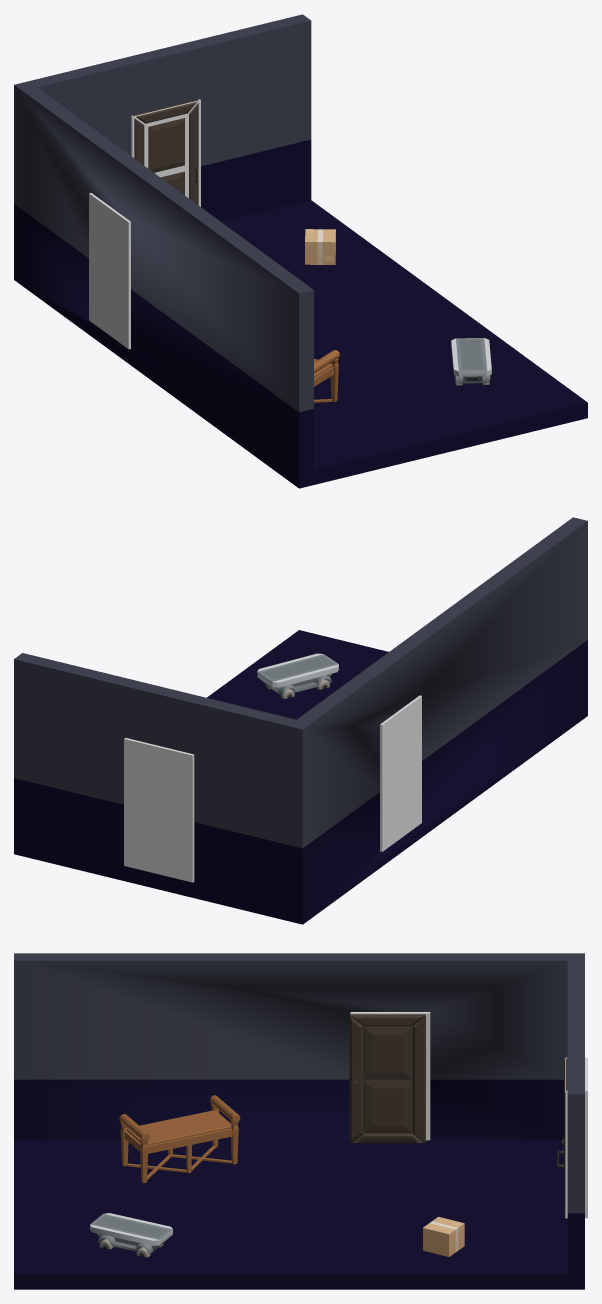
Rendered from room2.fbx.
3 renders of one model, top to bottom at view 1: azimuth 30°, elevation 25°; view 2: azimuth 150°, elevation 25°; view 3: azimuth 270°, elevation 25°, orthographic.
Visible parts, largest first — view 1: Cube.003, Cube.001, Door1, spacetruck_trailer, Cube, box_A, Node.001; view 2: Cube.003, Cube, Cube.001, spacetruck_trailer; view 3: Cube.003, Door1.001, Node.001, spacetruck_trailer, box_A, Cube, Cube.001, Door1.
Boxes of the visible parts, box(x1,y1,x2,y2) form: Cube.003: box(14, 14, 587, 488); Cube.001: box(89, 193, 130, 349); Door1: box(132, 99, 198, 204); spacetruck_trailer: box(451, 338, 491, 383); Cube: box(131, 99, 200, 206); box_A: box(305, 229, 335, 264); Node.001: box(314, 350, 339, 402); Cube.003: box(14, 517, 587, 924); Cube: box(124, 738, 194, 882); Cube.001: box(380, 695, 421, 851); spacetruck_trailer: box(257, 653, 338, 695); Cube.003: box(14, 953, 584, 1289); Door1.001: box(349, 1013, 425, 1143); Node.001: box(119, 1095, 240, 1183); spacetruck_trailer: box(90, 1213, 172, 1254); box_A: box(423, 1216, 464, 1256); Cube: box(565, 1057, 587, 1218); Cube.001: box(350, 1012, 430, 1140); Door1: box(557, 1058, 567, 1218).
Size of the model in its own units: 1381 by 884 by 2356.
6 materials, 2 textured.
